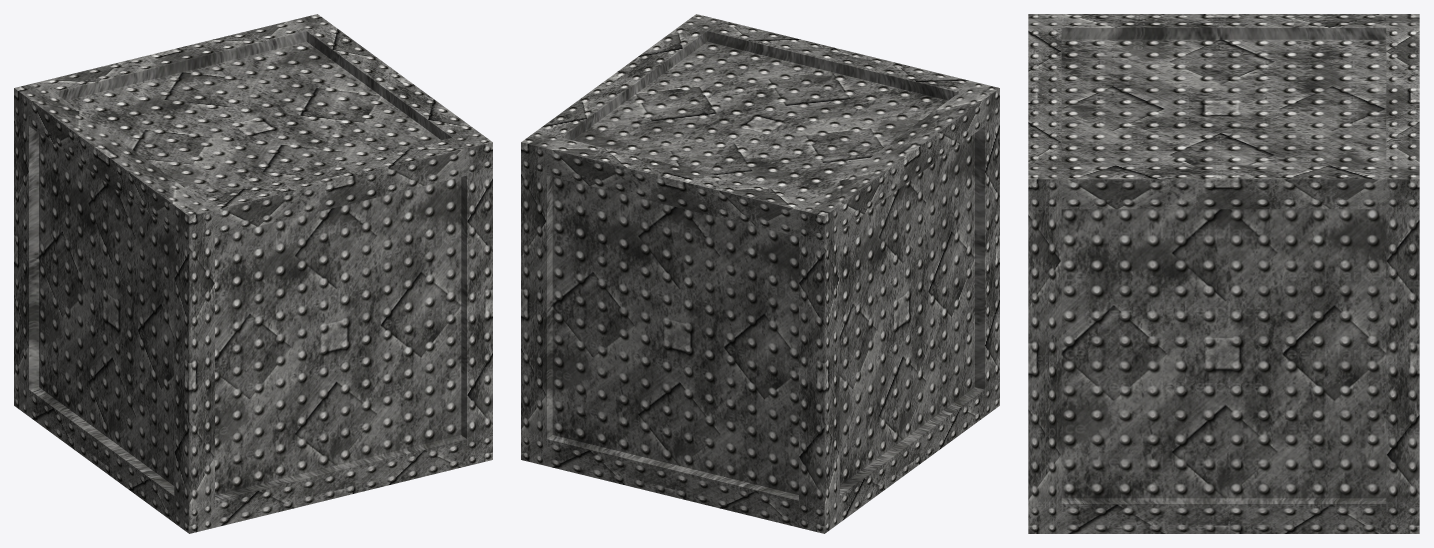
The model's file is crate.fbx.
3 renders of one model, left to right at view 1: azimuth 30°, elevation 25°; view 2: azimuth 150°, elevation 25°; view 3: azimuth 270°, elevation 25°, orthographic. The views are drawn at different scales.
Parts seen in each view (by area): view 1: Crate; view 2: Crate; view 3: Crate.
Boxes of the visible parts, <box> form: Crate: <box>14,14,492,533</box>; Crate: <box>521,14,999,533</box>; Crate: <box>1028,14,1419,533</box>.
Size of the model in its own units: 12.02 by 12.02 by 12.02.
Materials: 1 (1 with a texture image).
